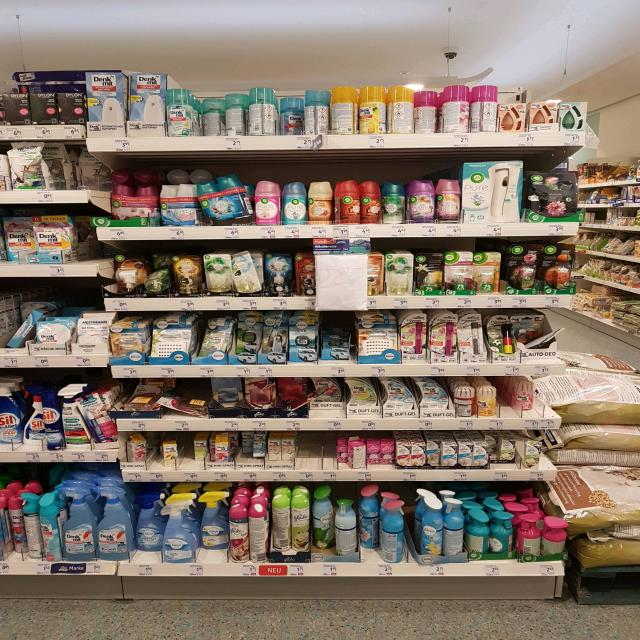empty: (299, 434, 341, 472), (495, 376, 515, 422)
